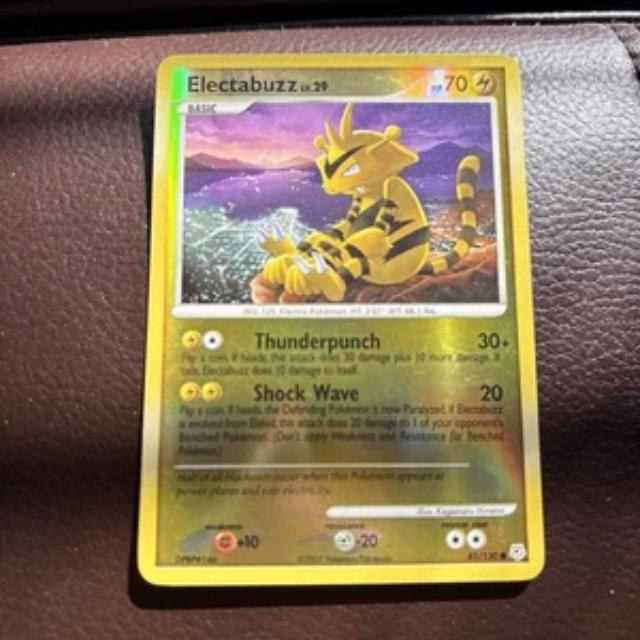Card: (134, 48, 549, 590)
Name: (185, 67, 301, 96)
